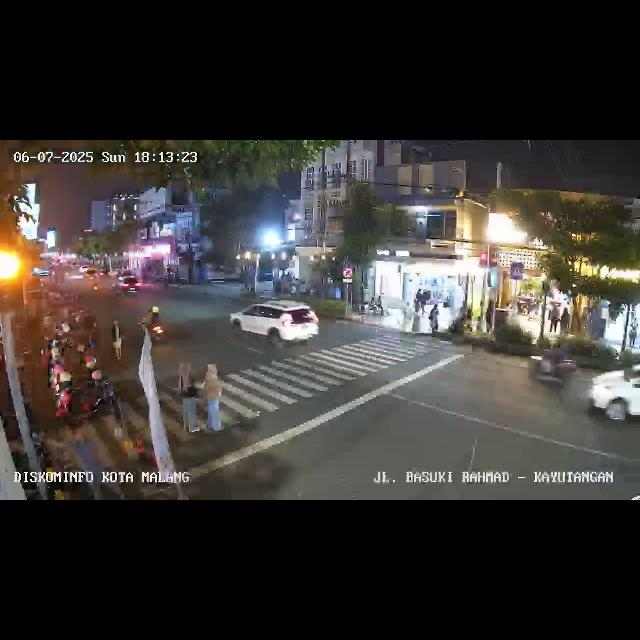car: (230, 300, 320, 348), (586, 365, 638, 429), (115, 273, 142, 297)
motorcycle: (528, 344, 576, 390), (146, 306, 166, 346)
person: (175, 358, 201, 434), (198, 363, 224, 435), (108, 318, 124, 360), (429, 303, 439, 335), (560, 304, 570, 334), (549, 304, 559, 334), (413, 302, 422, 334), (399, 300, 408, 332), (375, 292, 385, 316), (628, 324, 638, 348)
